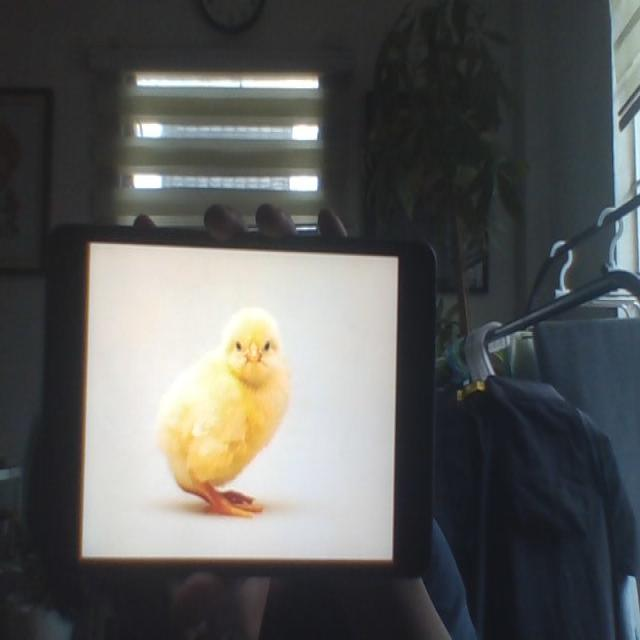Healthy: (159, 302, 288, 518)
